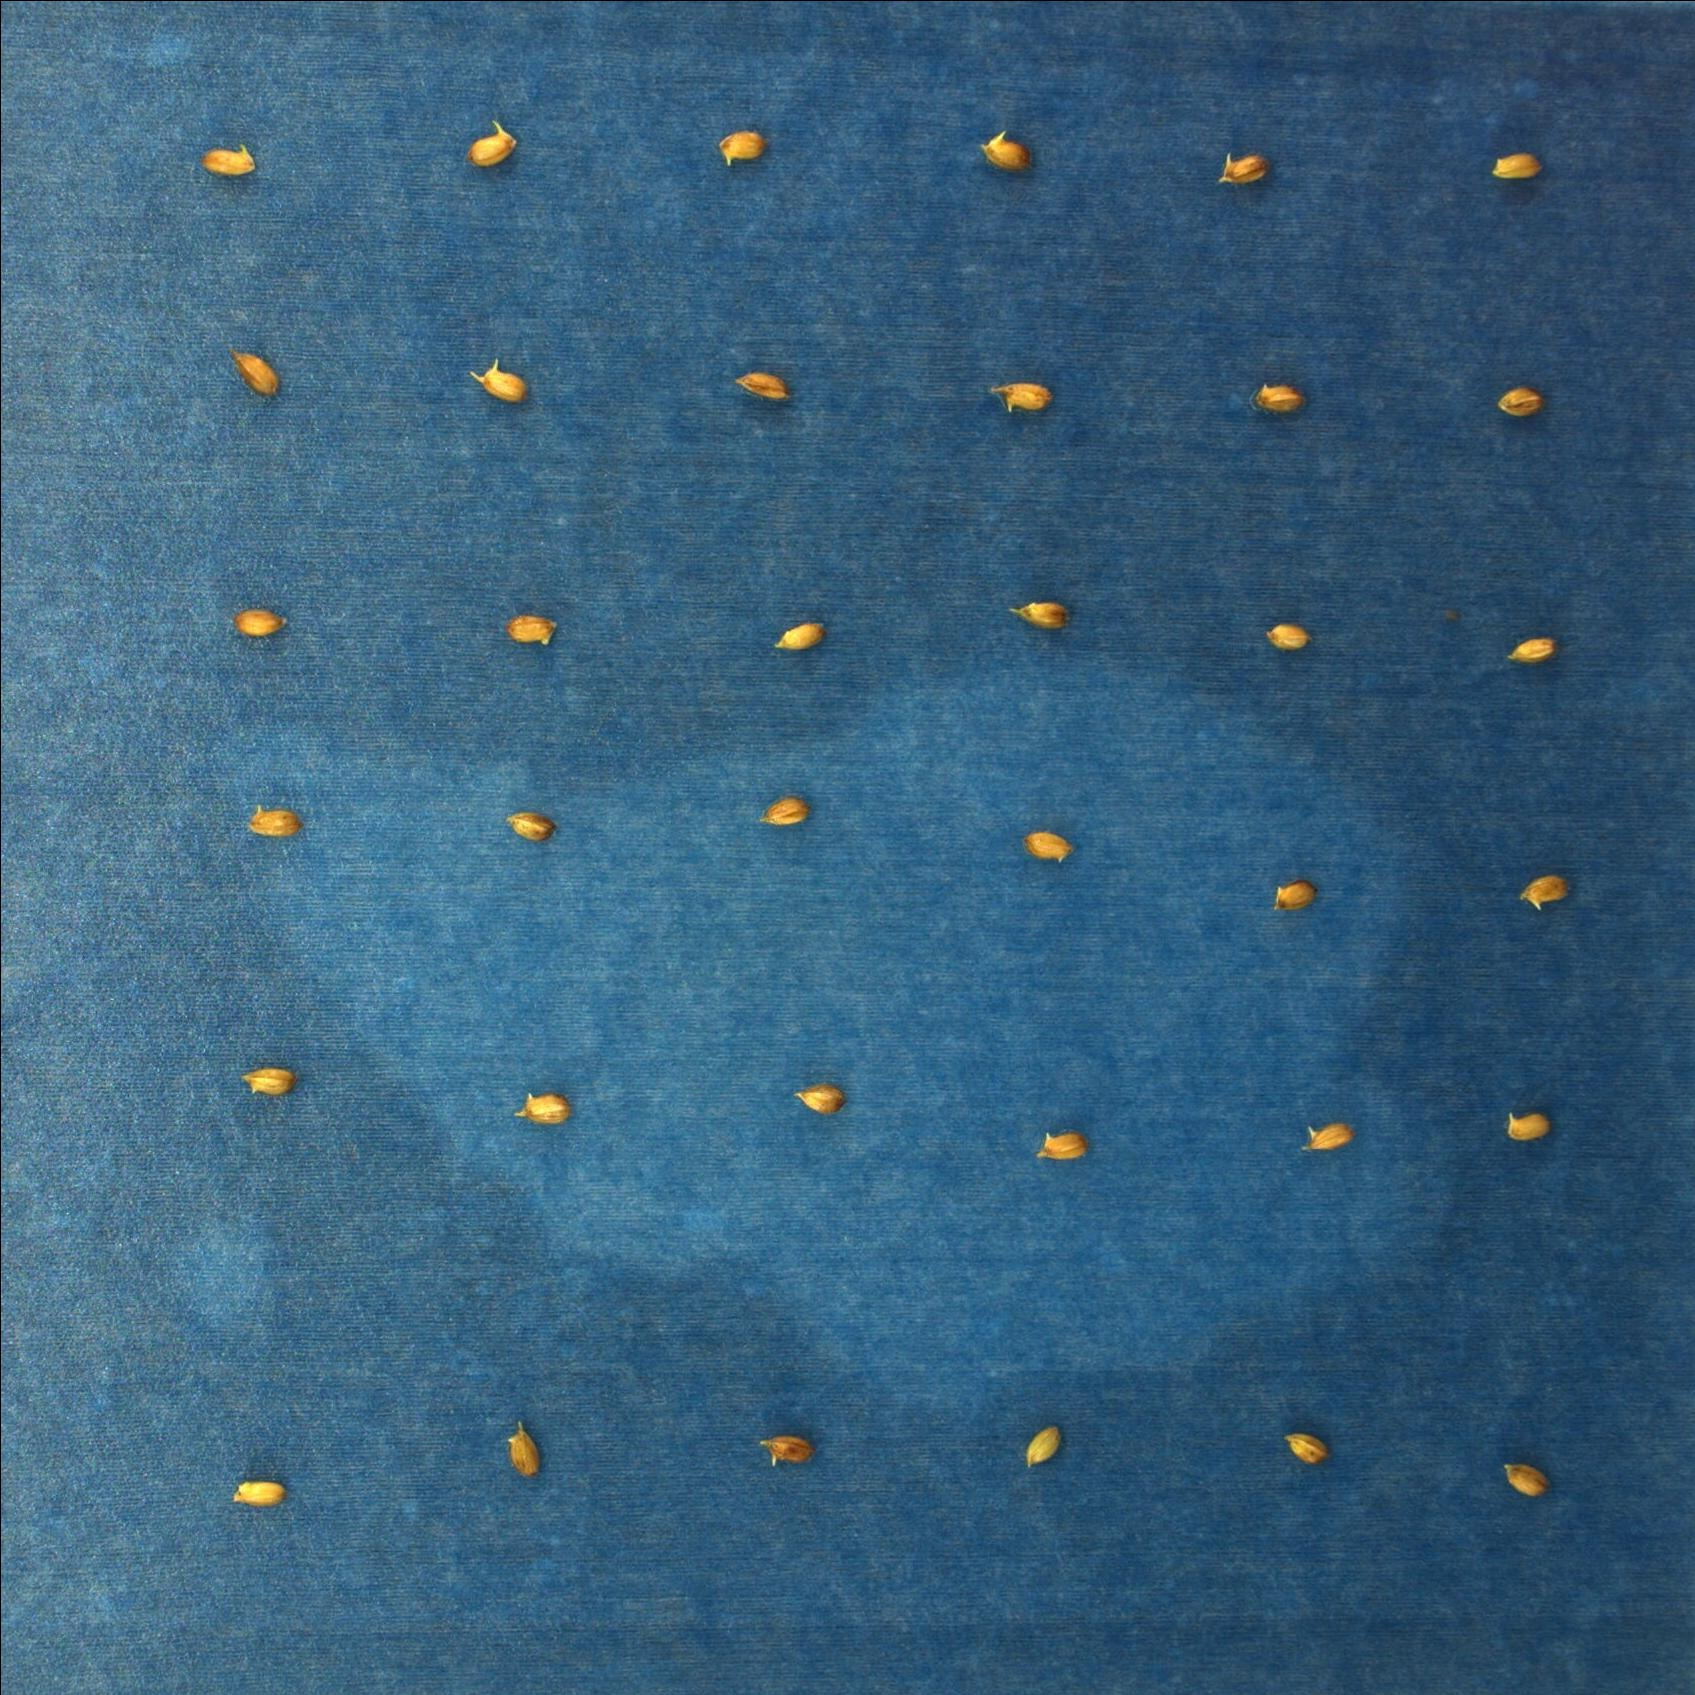not sprout: (469, 357, 534, 404), (1004, 598, 1073, 636), (466, 123, 517, 171), (227, 352, 281, 397), (498, 1425, 542, 1479), (200, 141, 261, 180), (989, 379, 1057, 413), (245, 801, 303, 841), (227, 605, 289, 643), (1516, 869, 1568, 914), (773, 616, 827, 657), (501, 806, 557, 844), (979, 127, 1029, 171), (1296, 1118, 1355, 1153), (734, 368, 795, 402), (504, 612, 560, 647), (1031, 1128, 1087, 1164), (1028, 827, 1076, 868), (512, 1093, 571, 1125), (1214, 151, 1267, 186), (795, 1080, 844, 1118), (242, 1068, 296, 1101), (722, 126, 764, 166), (1503, 1461, 1549, 1496), (761, 1434, 813, 1465), (751, 798, 812, 824), (1485, 154, 1541, 182), (231, 1479, 290, 1506), (1282, 1433, 1329, 1465), (1024, 1426, 1063, 1465), (1504, 1111, 1552, 1142), (1506, 632, 1555, 661), (1495, 383, 1541, 414), (1270, 882, 1315, 913), (1260, 383, 1305, 413), (1268, 622, 1313, 649)
